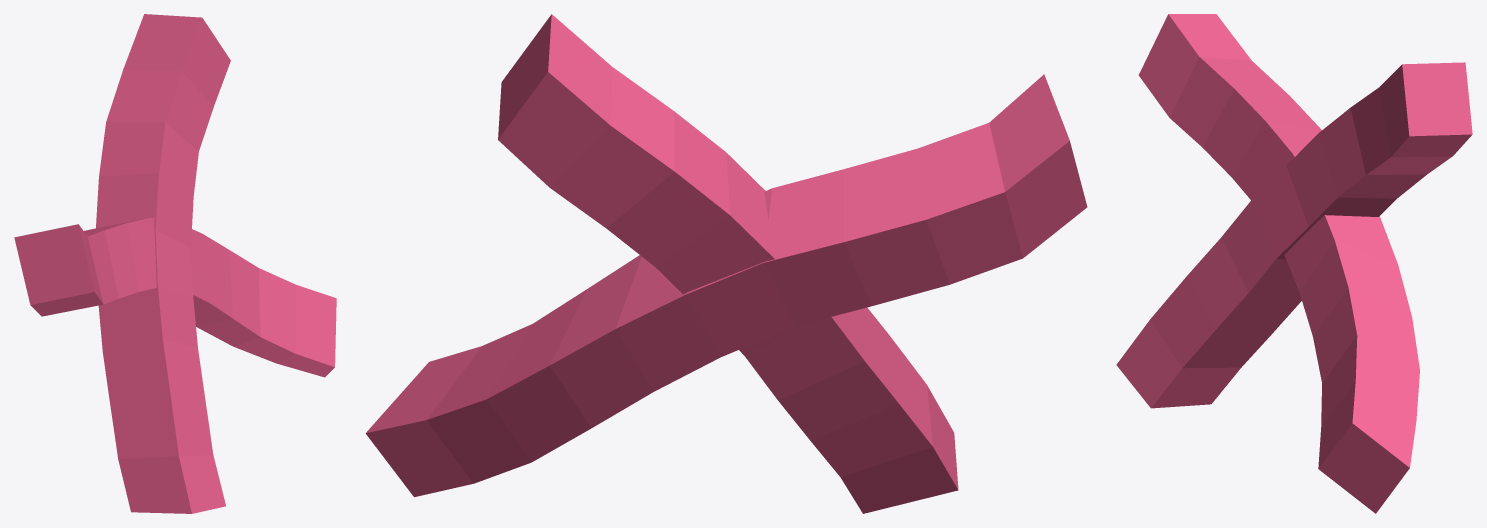
3 renders of one model, left to right at view 1: azimuth 30°, elevation 25°; view 2: azimuth 150°, elevation 25°; view 3: azimuth 270°, elevation 25°, orthographic. The views are drawn at different scales.
Visible parts, largest first — view 1: group_1680024077, group_1622057252; view 2: group_1622057252, group_1680024077; view 3: group_1622057252, group_1680024077.
Part boxes in pixels (x1,y1,x2,y2): group_1680024077: [96, 14, 230, 513]; group_1622057252: [14, 217, 336, 377]; group_1622057252: [365, 74, 1087, 497]; group_1680024077: [498, 14, 958, 513]; group_1622057252: [1138, 14, 1419, 513]; group_1680024077: [1116, 62, 1472, 408].
Bounding box in the file's own units: 89.82 × 82.4 × 65.61.
